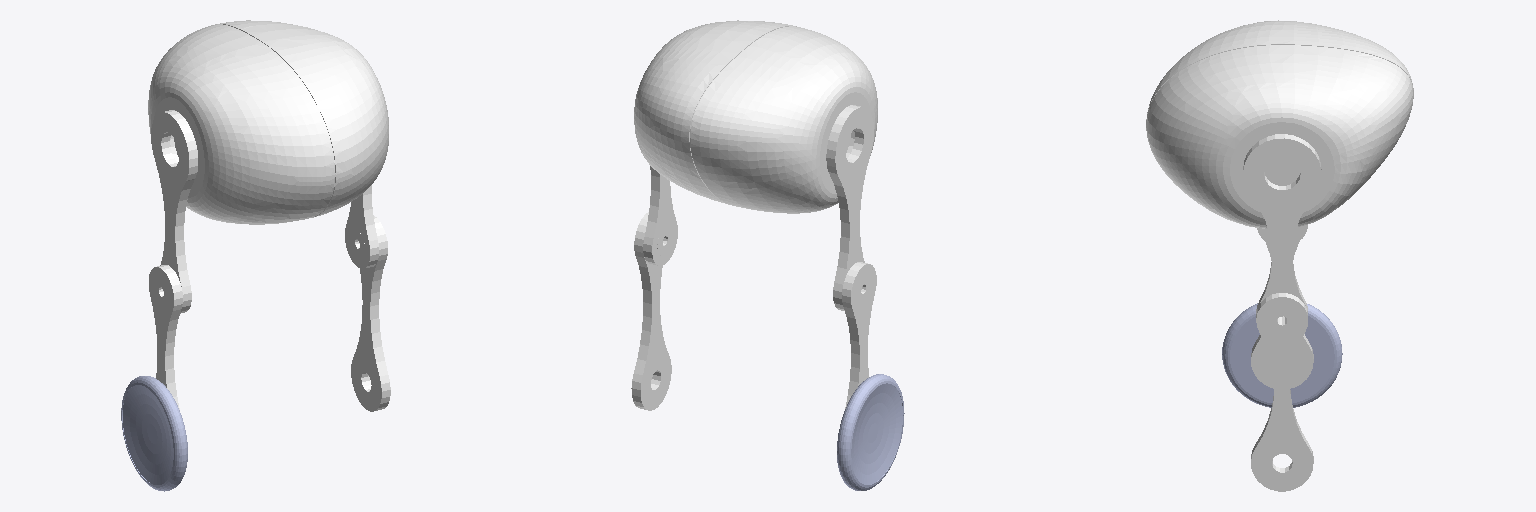
robot.urdf — two_wheel_bot_urdf4:
<?xml version="1.0" encoding="utf-8"?>
<!-- This URDF was automatically created by SolidWorks to URDF Exporter! Originally created by [author] ([email redacted]) 
     Commit Version: 1.6.0-4-g7f85cfe  Build Version: 1.6.7995.38578
     For more information, please see http://wiki.ros.org/sw_urdf_exporter -->
<robot
  name="two_wheel_bot_urdf4">
  <link
    name="base_link">
    <inertial>
      <origin
        xyz="-2.5675E-06 -0.004101 0.0045714"
        rpy="0 0 0" />
      <mass
        value="4.4532" />
      <inertia
        ixx="0.024649"
        ixy="5.3993E-07"
        ixz="-5.7011E-08"
        iyy="0.020818"
        iyz="-0.001429"
        izz="0.028482" />
    </inertial>
    <visual>
      <origin
        xyz="0 0 0"
        rpy="0 0 0" />
      <geometry>
        <mesh
          filename="package://two_wheel_bot_urdf4/meshes/base_link.STL" />
      </geometry>
      <material
        name="">
        <color
          rgba="1 1 1 1" />
      </material>
    </visual>
    <collision>
      <origin
        xyz="0 0 0"
        rpy="0 0 0" />
      <geometry>
        <mesh
          filename="package://two_wheel_bot_urdf4/meshes/base_link.STL" />
      </geometry>
    </collision>
  </link>
  <link
    name="link1L">
    <inertial>
      <origin
        xyz="-0.0022174 -2.4169E-17 -0.041249"
        rpy="0 0 0" />
      <mass
        value="0.098536" />
      <inertia
        ixx="0.00038072"
        ixy="8.5835E-21"
        ixz="9.0128E-06"
        iyy="0.00035051"
        iyz="-1.797E-19"
        izz="3.5255E-05" />
    </inertial>
    <visual>
      <origin
        xyz="0 0 0"
        rpy="0 0 0" />
      <geometry>
        <mesh
          filename="package://two_wheel_bot_urdf4/meshes/link1L.STL" />
      </geometry>
      <material
        name="">
        <color
          rgba="1 1 1 0.32" />
      </material>
    </visual>
    <collision>
      <origin
        xyz="0 0 0"
        rpy="0 0 0" />
      <geometry>
        <mesh
          filename="package://two_wheel_bot_urdf4/meshes/link1L.STL" />
      </geometry>
    </collision>
  </link>
  <joint
    name="joint1L"
    type="revolute">
    <origin
      xyz="0.105 0 0"
      rpy="0 0 0" />
    <parent
      link="base_link" />
    <child
      link="link1L" />
    <axis
      xyz="-1 0 0" />
    <limit
      lower="-1.570793"
      upper="1.570793"
      effort="0"
      velocity="0" />
  </joint>
  <link
    name="link2L">
    <inertial>
      <origin
        xyz="0.0091303 -3.065E-17 -0.074797"
        rpy="0 0 0" />
      <mass
        value="0.077303" />
      <inertia
        ixx="0.00034986"
        ixy="5.2129E-21"
        ixz="5.0286E-06"
        iyy="0.00033924"
        iyz="2.6185E-19"
        izz="1.3139E-05" />
    </inertial>
    <visual>
      <origin
        xyz="0 0 0"
        rpy="0 0 0" />
      <geometry>
        <mesh
          filename="package://two_wheel_bot_urdf4/meshes/link2L.STL" />
      </geometry>
      <material
        name="">
        <color
          rgba="1 1 1 0.32" />
      </material>
    </visual>
    <collision>
      <origin
        xyz="0 0 0"
        rpy="0 0 0" />
      <geometry>
        <mesh
          filename="package://two_wheel_bot_urdf4/meshes/link2L.STL" />
      </geometry>
    </collision>
  </link>
  <joint
    name="joint2L"
    type="revolute">
    <origin
      xyz="0 0 -0.15"
      rpy="0 0 0" />
    <parent
      link="link1L" />
    <child
      link="link2L" />
    <axis
      xyz="1 0 0" />
    <limit
      lower="-1.5708"
      upper="1.5708"
      effort="0"
      velocity="0" />
  </joint>
  <link
    name="wheelL">
    <inertial>
      <origin
        xyz="0.011104 -1.3263E-17 -5.5511E-17"
        rpy="0 0 0" />
      <mass
        value="0.12622" />
      <inertia
        ixx="0.00020879"
        ixy="1.9828E-20"
        ixz="1.6113E-20"
        iyy="0.00010647"
        iyz="1.6009E-36"
        izz="0.00010647" />
    </inertial>
    <visual>
      <origin
        xyz="0 0 0"
        rpy="0 0 0" />
      <geometry>
        <mesh
          filename="package://two_wheel_bot_urdf4/meshes/wheelL.STL" />
      </geometry>
      <material
        name="">
        <color
          rgba="0.79216 0.81961 0.93333 1" />
      </material>
    </visual>
    <collision>
      <origin
        xyz="0 0 0"
        rpy="0 0 0" />
      <geometry>
        <mesh
          filename="package://two_wheel_bot_urdf4/meshes/wheelL.STL" />
      </geometry>
    </collision>
  </link>
  <joint
    name="wheel_jointL"
    type="continuous">
    <origin
      xyz="0.01 0 -0.15"
      rpy="0 0 0" />
    <parent
      link="link2L" />
    <child
      link="wheelL" />
    <axis
      xyz="1 0 0" />
  </joint>
  <link
    name="link1R">
    <inertial>
      <origin
        xyz="0.0022174 2.164E-18 -0.041249"
        rpy="0 0 0" />
      <mass
        value="0.098536" />
      <inertia
        ixx="0.00038072"
        ixy="-3.2093E-21"
        ixz="-9.0128E-06"
        iyy="0.00035051"
        iyz="1.1883E-19"
        izz="3.5255E-05" />
    </inertial>
    <visual>
      <origin
        xyz="0 0 0"
        rpy="0 0 0" />
      <geometry>
        <mesh
          filename="package://two_wheel_bot_urdf4/meshes/link1R.STL" />
      </geometry>
      <material
        name="">
        <color
          rgba="1 1 1 0.32" />
      </material>
    </visual>
    <collision>
      <origin
        xyz="0 0 0"
        rpy="0 0 0" />
      <geometry>
        <mesh
          filename="package://two_wheel_bot_urdf4/meshes/link1R.STL" />
      </geometry>
    </collision>
  </link>
  <joint
    name="joint1R"
    type="revolute">
    <origin
      xyz="-0.105 0 0"
      rpy="0 0 0" />
    <parent
      link="base_link" />
    <child
      link="link1R" />
    <axis
      xyz="1 0 0" />
    <limit
      lower="-1.570793"
      upper="1.570793"
      effort="0"
      velocity="0" />
  </joint>
  <link
    name="link2R">
    <inertial>
      <origin
        xyz="-0.0091303 -7.4492E-18 -0.074797"
        rpy="0 0 0" />
      <mass
        value="0.077303" />
      <inertia
        ixx="0.00034986"
        ixy="1.4834E-21"
        ixz="-5.0286E-06"
        iyy="0.00033924"
        iyz="-2.1347E-19"
        izz="1.3139E-05" />
    </inertial>
    <visual>
      <origin
        xyz="0 0 0"
        rpy="0 0 0" />
      <geometry>
        <mesh
          filename="package://two_wheel_bot_urdf4/meshes/link2R.STL" />
      </geometry>
      <material
        name="">
        <color
          rgba="1 1 1 0.32" />
      </material>
    </visual>
    <collision>
      <origin
        xyz="0 0 0"
        rpy="0 0 0" />
      <geometry>
        <mesh
          filename="package://two_wheel_bot_urdf4/meshes/link2R.STL" />
      </geometry>
    </collision>
  </link>
  <joint
    name="joint2R"
    type="revolute">
    <origin
      xyz="0 0 -0.15"
      rpy="0 0 0" />
    <parent
      link="link1R" />
    <child
      link="link2R" />
    <axis
      xyz="-1 0 0" />
    <limit
      lower="-1.5708"
      upper="1.5708"
      effort="0"
      velocity="0" />
  </joint>
  <link
    name="wheelR">
    <inertial>
      <origin
        xyz="-0.011104 5.5006E-17 -5.5511E-17"
        rpy="0 0 0" />
      <mass
        value="0.12622" />
      <inertia
        ixx="0.00020879"
        ixy="1.3049E-20"
        ixz="-1.8758E-20"
        iyy="0.00010647"
        iyz="-2.1305E-36"
        izz="0.00010647" />
    </inertial>
    <visual>
      <origin
        xyz="0 0 0"
        rpy="0 0 0" />
      <geometry>
        <mesh
          filename="package://two_wheel_bot_urdf4/meshes/wheelR.STL" />
      </geometry>
      <material
        name="">
        <color
          rgba="0.79216 0.81961 0.93333 1" />
      </material>
    </visual>
    <collision>
      <origin
        xyz="0 0 0"
        rpy="0 0 0" />
      <geometry>
        <mesh
          filename="package://two_wheel_bot_urdf4/meshes/wheelR.STL" />
      </geometry>
    </collision>
  </link>
  <joint
    name="wheel_jointR"
    type="continuous">
    <origin
      xyz="-0.01 0 -0.15"
      rpy="0 0 0" />
    <parent
      link="link2R" />
    <child
      link="wheelR" />
    <axis
      xyz="-1 0 0" />
  </joint>
</robot>

--- What the picture shows (computed from the rendered views, not written in the file) ---
The picture shows the robot from 3 angles, left to right: view 1: azimuth 30°, elevation 25°; view 2: azimuth 150°, elevation 25°; view 3: azimuth 270°, elevation 25°; orthographic projection.
Robot: two_wheel_bot_urdf4 — 7 links, 6 joints (4 revolute, 2 continuous); root link base_link; default pose: every joint at zero.
Visible links, largest first — view 1: base_link, wheelR, link1R, link2L, link2R, link1L; view 2: base_link, wheelR, link1R, link2L, link2R, link1L; view 3: base_link, link2L, link1L, wheelR, link2R.
Link boxes in pixels (x1,y1,x2,y2): base_link: [148, 20, 388, 224]; wheelR: [121, 376, 187, 491]; link1R: [151, 110, 197, 313]; link2L: [350, 216, 390, 411]; link2R: [149, 265, 182, 409]; link1L: [345, 185, 378, 268]; base_link: [634, 20, 877, 213]; wheelR: [837, 374, 904, 490]; link1R: [826, 105, 873, 310]; link2L: [631, 212, 672, 410]; link2R: [842, 262, 876, 408]; link1L: [643, 166, 677, 265]; base_link: [1146, 20, 1413, 228]; link2L: [1251, 293, 1313, 491]; link1L: [1243, 134, 1320, 313]; wheelR: [1222, 303, 1342, 407]; link2R: [1251, 240, 1313, 388].
Size in the robot's own frame: 0.255 by 0.2556 by 0.4424 metres.
Meshes: 7 distinct files referenced, 6 mesh visuals loaded (6 binary STL); not drawn: 1 (reference not matched to a file when rendering).